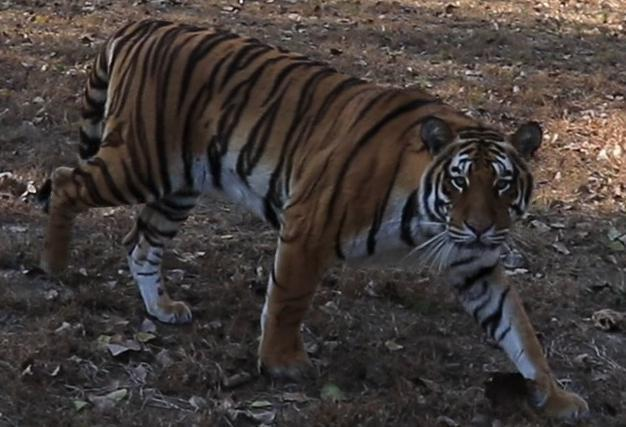tiger: (40, 20, 586, 416)
